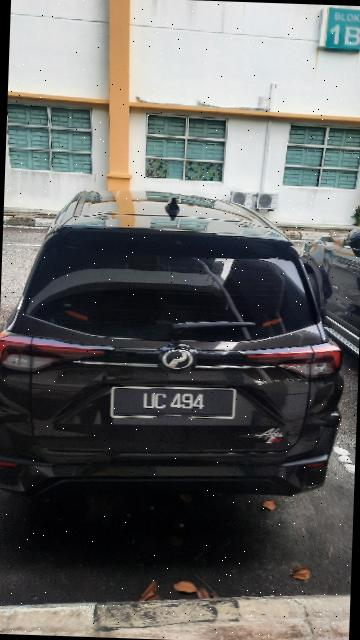License_Plate: (107, 384, 237, 424)
car: (1, 179, 349, 513)
